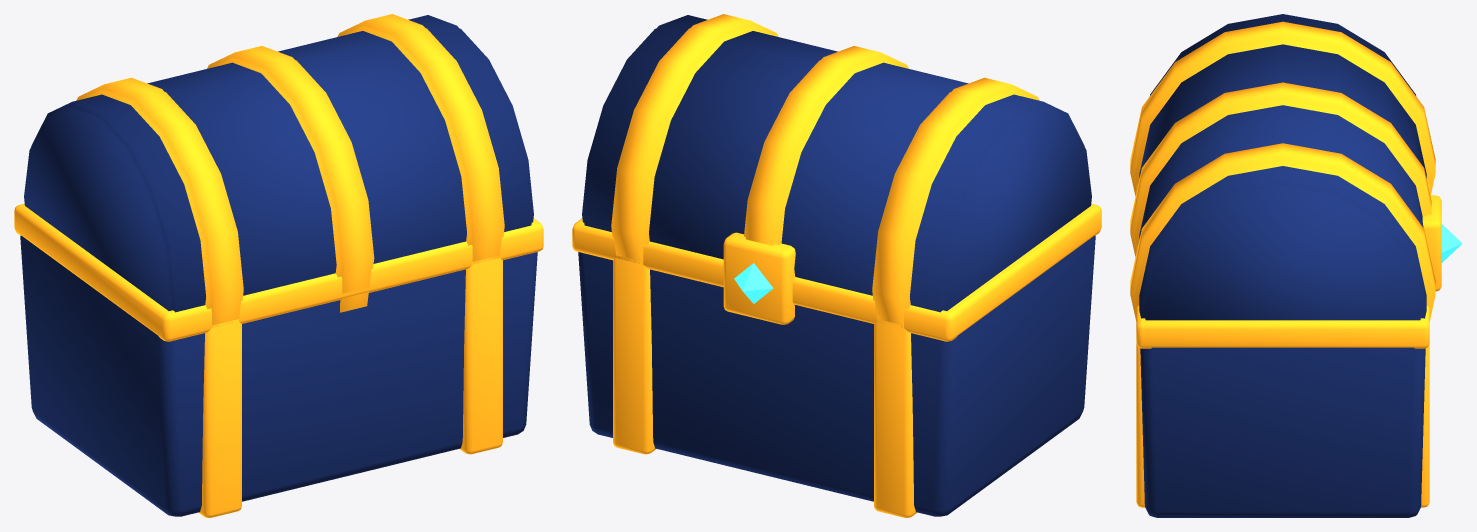
File: prop_sky_chest.glb
The picture shows the model from 3 angles, left to right: view 1: azimuth 30°, elevation 25°; view 2: azimuth 150°, elevation 25°; view 3: azimuth 270°, elevation 25°; orthographic projection. The views are drawn at different scales.
Visible parts, largest first — view 1: LidVault, CofferBox, BaseRim, LidStrap_0.0, LidStrap_0.48, LidStrap_-0.48, BaseBand_0.48, BaseBand_-0.48; view 2: LidVault, CofferBox, BaseRim, LidStrap_0.48, LidStrap_-0.48, LidStrap_0.0, BaseBand_0.48, BaseBand_-0.48, LockPlate, LockStar; view 3: LidVault, CofferBox, LidStrap_0.48, LidStrap_-0.48, BaseRim, LidStrap_0.0, BaseBand_0.48, LockPlate, LockStar.
Part boxes in pixels (box(x1,y1,x2,y2)): LidVault: box(24, 15, 533, 312); CofferBox: box(20, 235, 537, 516); BaseRim: box(14, 203, 543, 341); LidStrap_0.0: box(207, 46, 374, 312); LidStrap_0.48: box(337, 14, 504, 261); LidStrap_-0.48: box(76, 77, 243, 325); BaseBand_0.48: box(459, 257, 502, 454); BaseBand_-0.48: box(198, 319, 241, 517); LidVault: box(582, 15, 1091, 312); CofferBox: box(578, 235, 1095, 516); BaseRim: box(572, 203, 1101, 341); LidStrap_0.48: box(611, 14, 778, 261); LidStrap_-0.48: box(872, 77, 1039, 325); LidStrap_0.0: box(744, 46, 908, 245); BaseBand_0.48: box(613, 256, 656, 454); BaseBand_-0.48: box(874, 319, 917, 517); LockPlate: box(723, 232, 795, 324); LockStar: box(734, 263, 773, 303); LidVault: box(1139, 14, 1426, 320); CofferBox: box(1140, 347, 1425, 517); LidStrap_0.48: box(1130, 143, 1435, 321); LidStrap_-0.48: box(1130, 21, 1435, 196); BaseRim: box(1136, 185, 1429, 348); LidStrap_0.0: box(1130, 82, 1431, 257); BaseBand_0.48: box(1136, 344, 1429, 507); LockPlate: box(1422, 195, 1441, 291); LockStar: box(1441, 224, 1462, 262).
Size of the model in its own units: 1.4 by 1.3 by 1.11.
